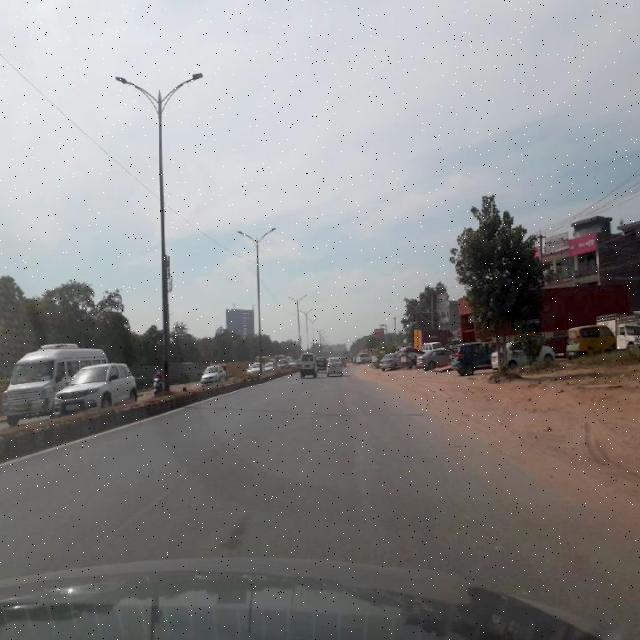D44: (97, 478, 179, 539)
